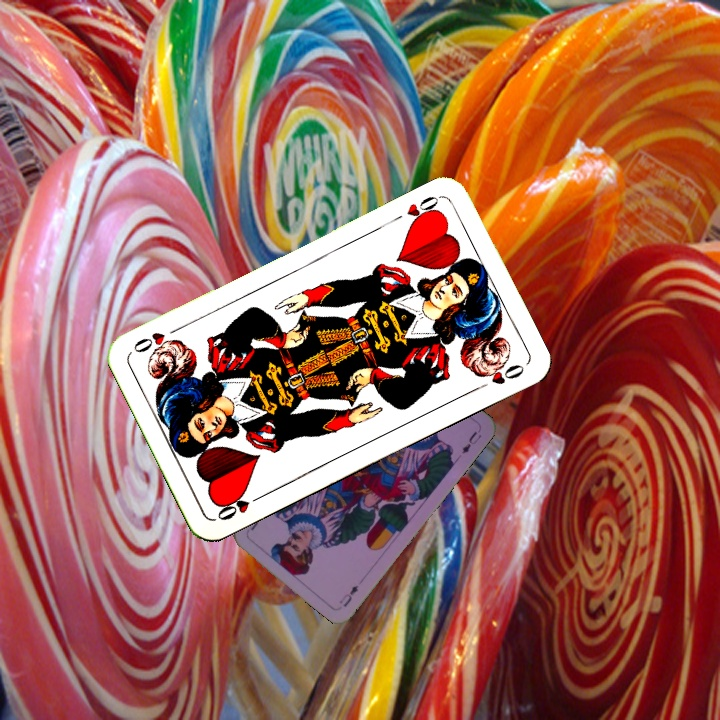EU: (335, 581, 361, 610)
HO: (213, 489, 267, 523), (402, 191, 443, 229)
